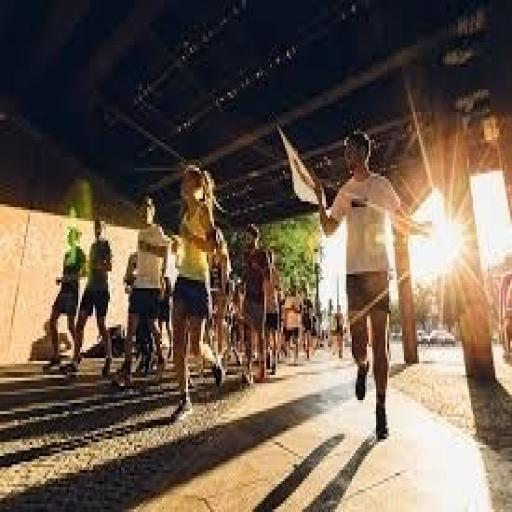running: (314, 126, 408, 442), (164, 162, 233, 422), (65, 212, 117, 380), (234, 218, 276, 389)
